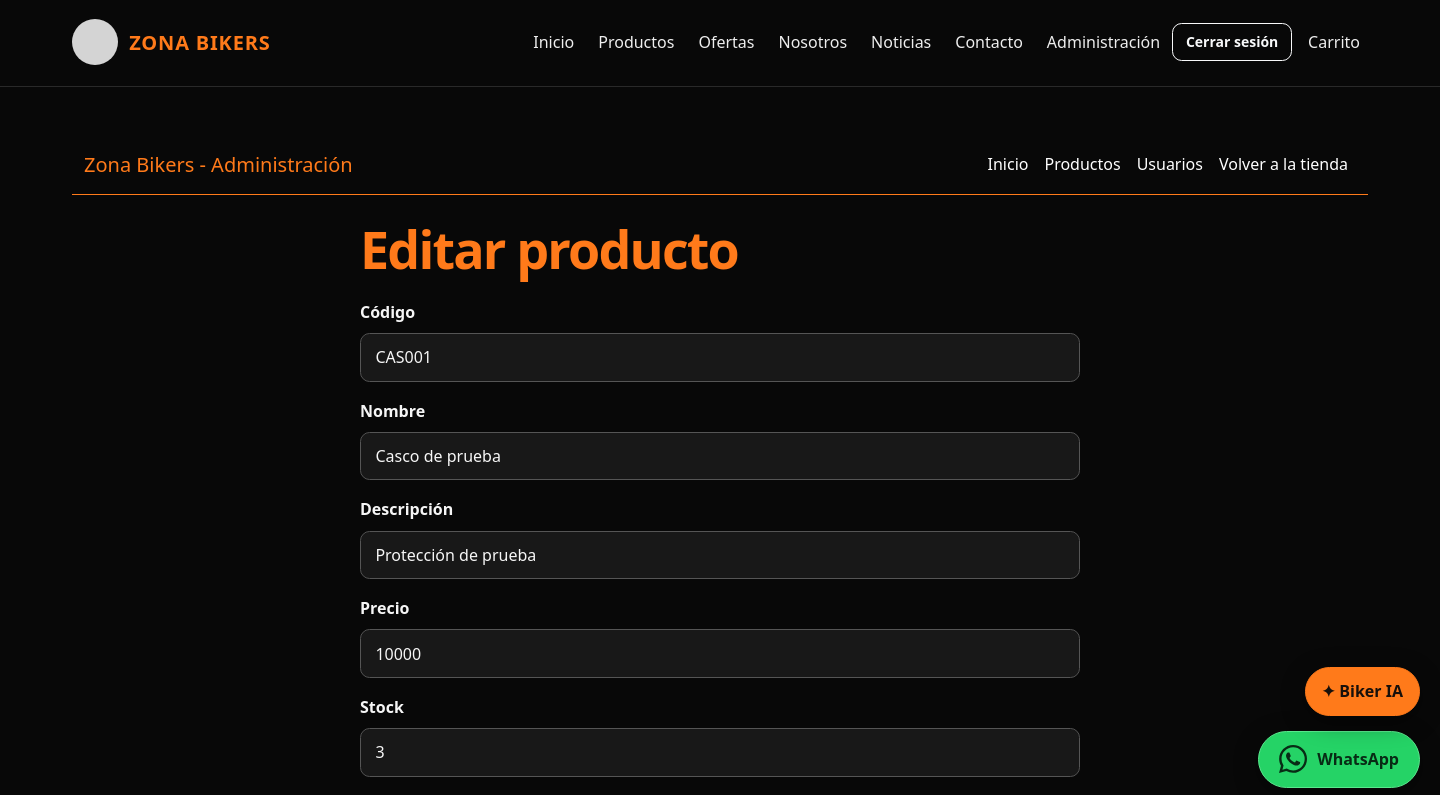
Test: Administración persistente › edita un producto existente
The image size is (1440, 795).
Replace the text in the field labelled "Nombre" with "Casco actualizado". click: (720, 456)
box: [360, 432, 1080, 480]
(page scrolled)
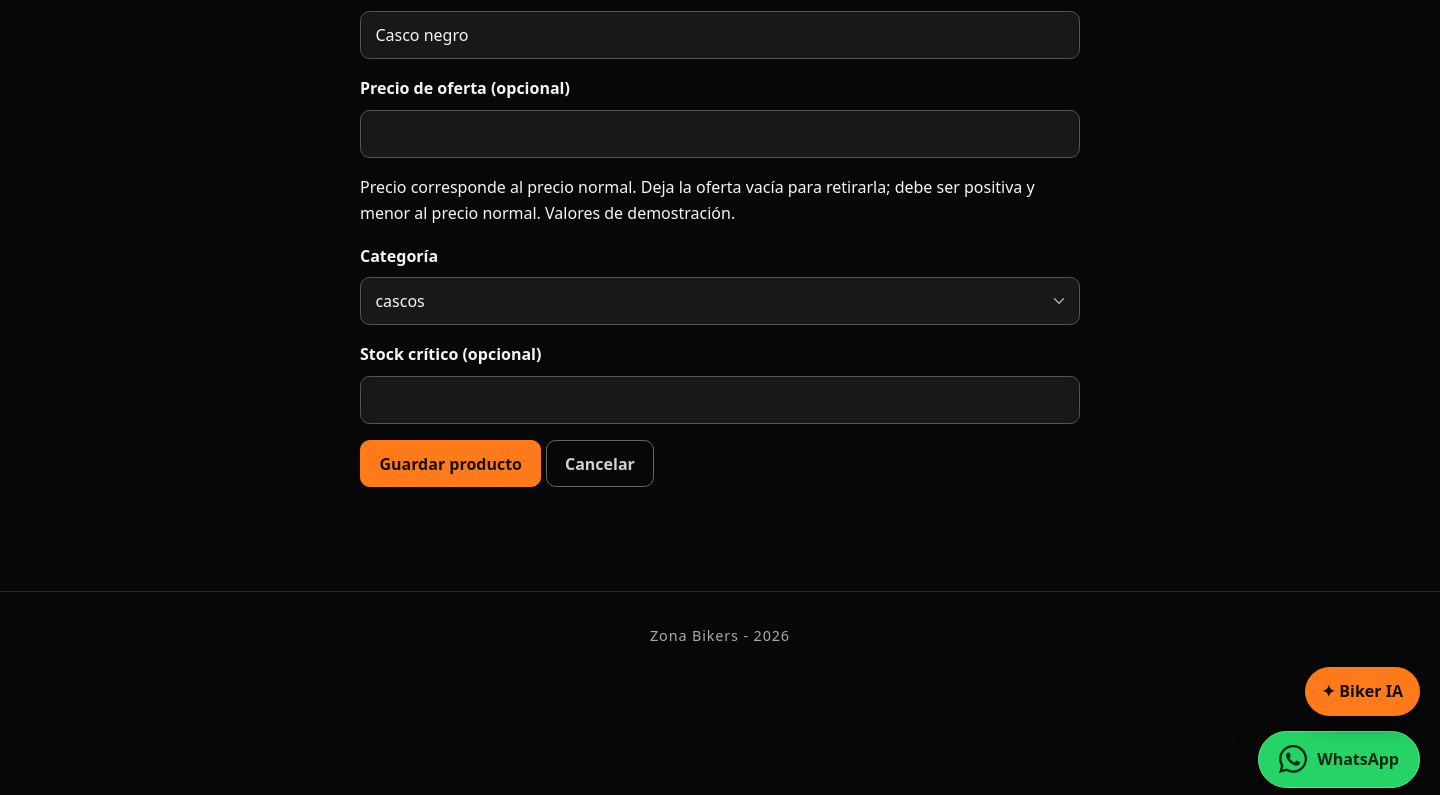
Click the button "Guardar producto". click: (451, 464)
box: [360, 440, 541, 487]
(page scrolled)
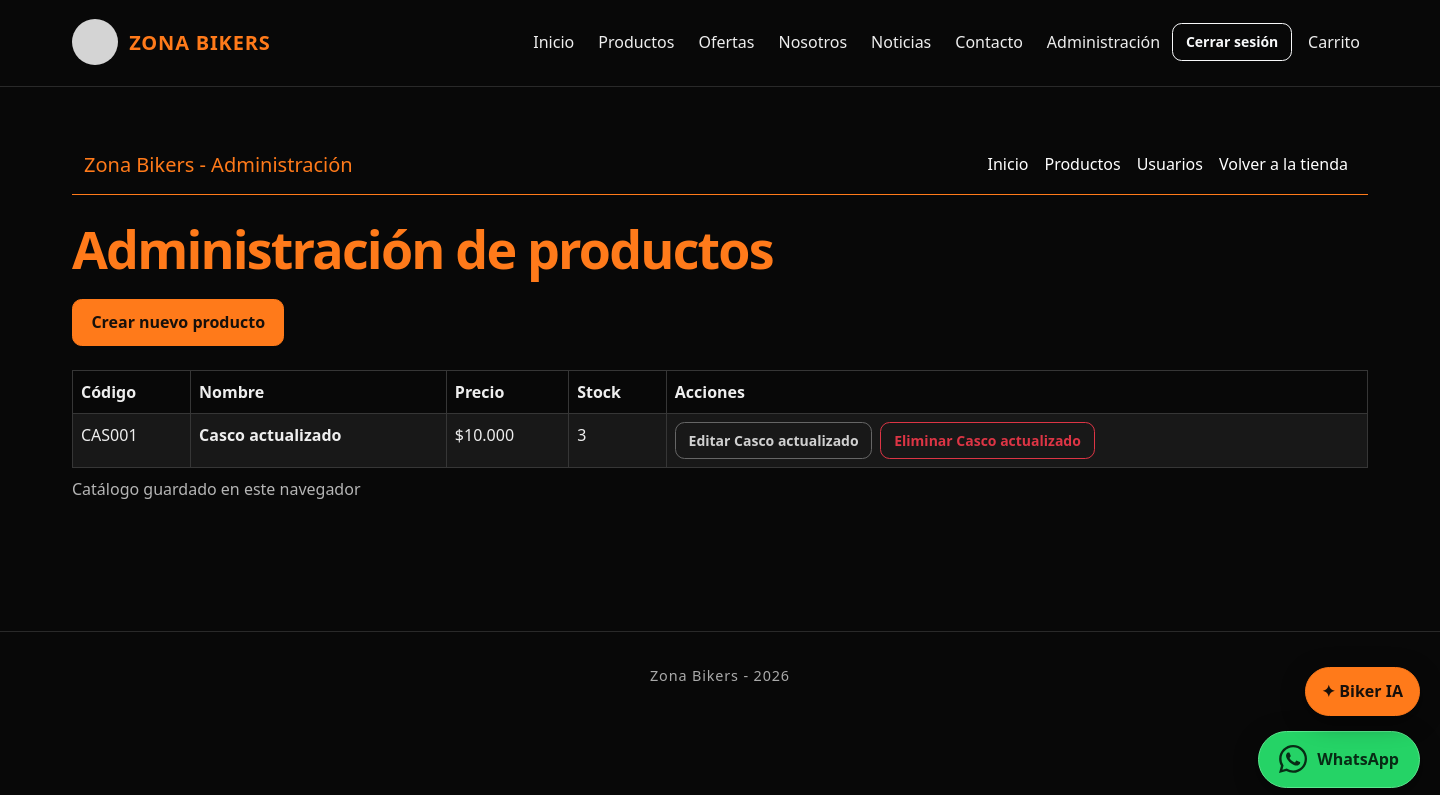
Result: the column heading "Casco actualizado" is shown at [191, 414, 446, 468]
